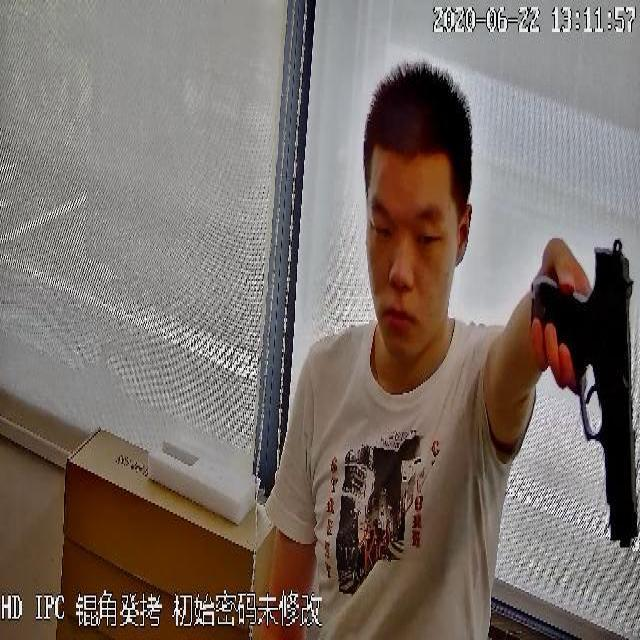pistol: (529, 232, 639, 555)
